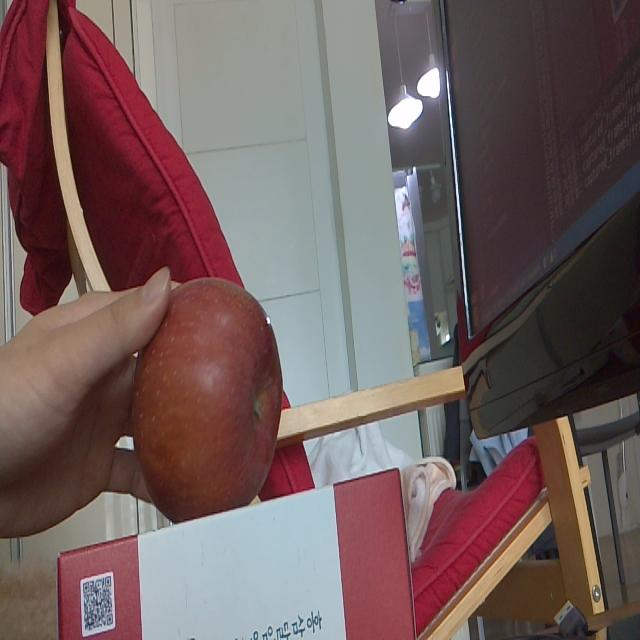apple: (133, 278, 283, 502)
